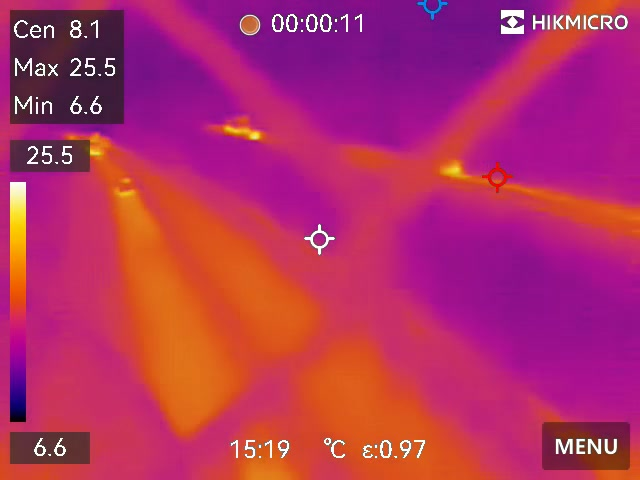vehicle: (111, 175, 137, 197)
